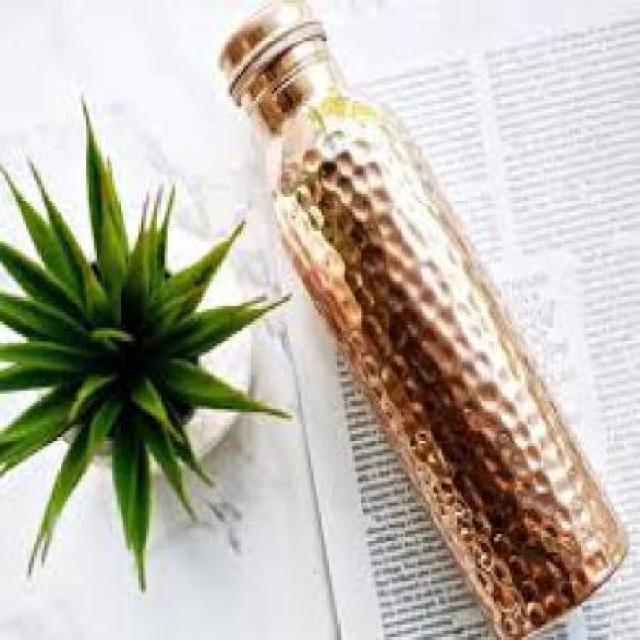Drinking: (182, 6, 638, 637)
